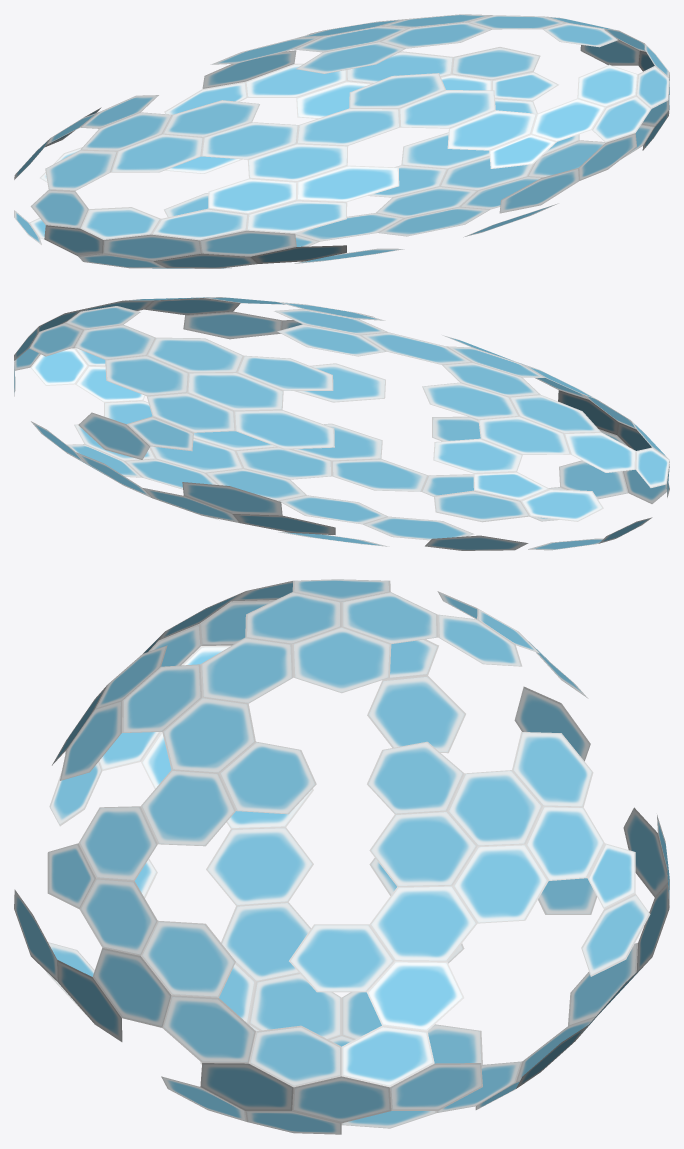
The model's file is Spaceship-Shield-Half.fbx.
3 renders of one model, top to bottom at view 1: azimuth 30°, elevation 25°; view 2: azimuth 150°, elevation 25°; view 3: azimuth 270°, elevation 25°, orthographic. The views are drawn at different scales.
Visible parts, largest first — view 1: Starship-Shield-Half; view 2: Starship-Shield-Half; view 3: Starship-Shield-Half.
Boxes of the visible parts, bbox=[...] form: Starship-Shield-Half: bbox=[14, 14, 669, 268]; Starship-Shield-Half: bbox=[14, 297, 669, 550]; Starship-Shield-Half: bbox=[14, 579, 669, 1134].
Size of the model in its own units: 207 by 40.96 by 117.
